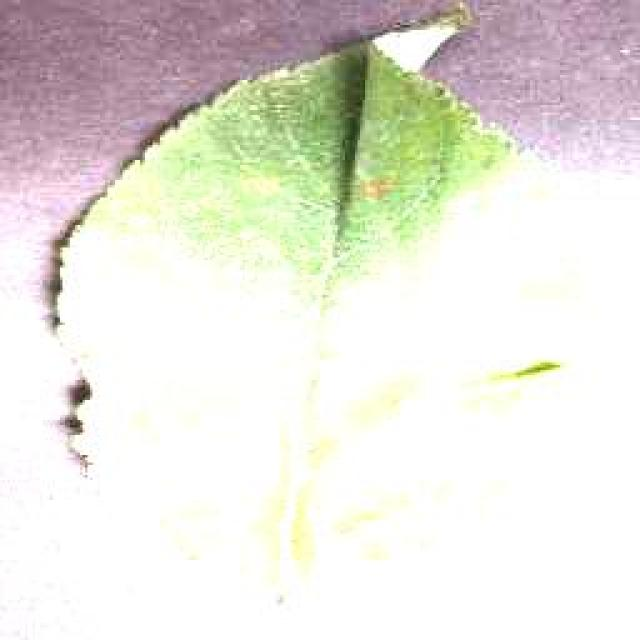apple rust disease: (43, 2, 565, 600)
